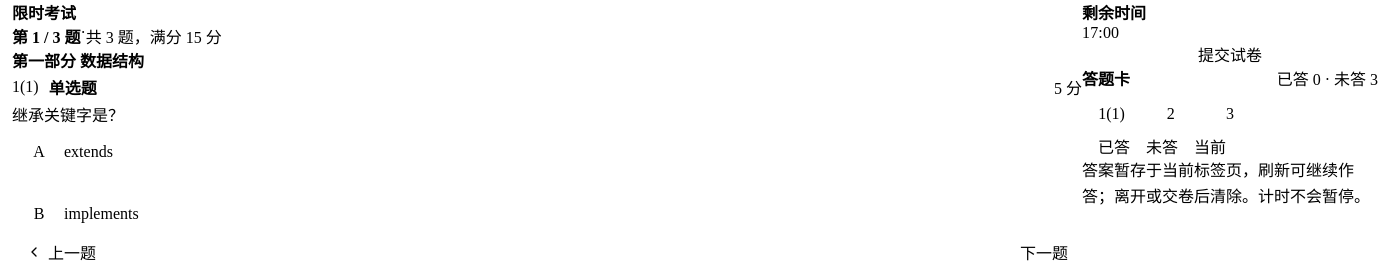
Test: ExamTakeView › keeps answering available and explains when this tab cannot store a refresh draft
What coordinates should you click on to do the following:
click the radio button labelled "A extends"
I would click on:
 (73, 152)
Its box is [33, 143, 113, 160].
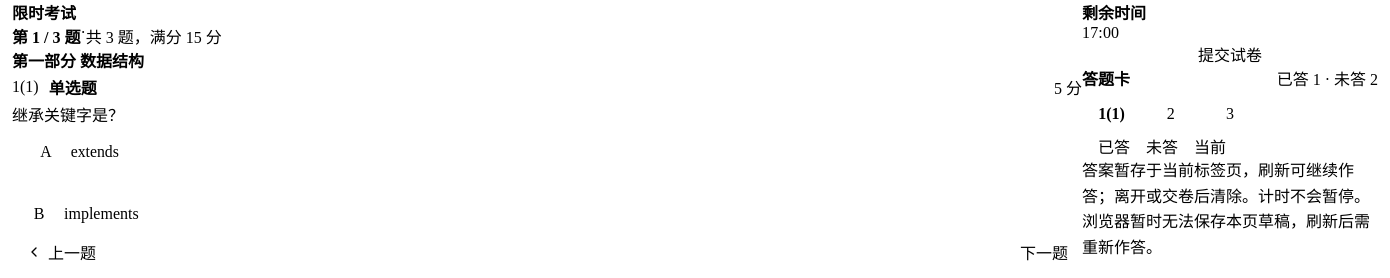
expect the button "提交试卷" is enabled: met, box [1082, 42, 1378, 66]
expect the radio button labelled "A extends" is checked: met, box [40, 143, 119, 160]
expect the text "浏览器暂时无法保存本页草稿" is shown: met, box [1082, 213, 1370, 256]
